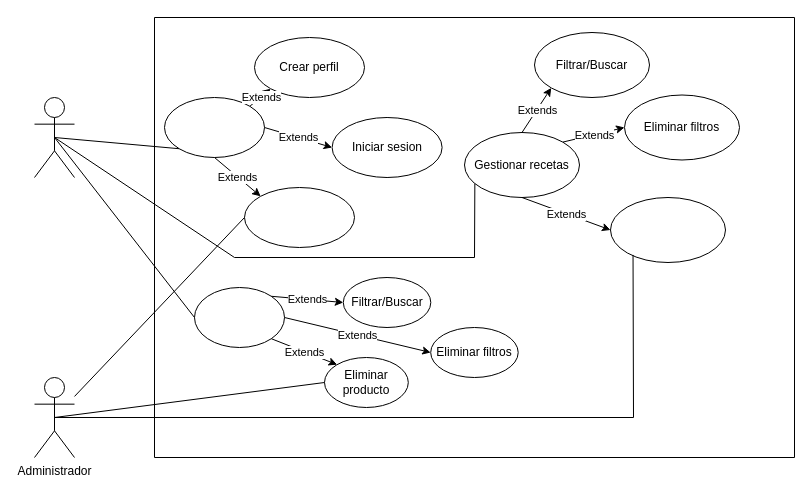
This 812x496 diagram has some shape labels left out. The box of each missing label's shape, as (x1, y1, x2, y2) in pixels:
Eliminar receta: (610, 196, 726, 262)
Eliminar usuario: (244, 186, 354, 248)
Gestionar productos: (194, 286, 284, 348)
Gestionar usuarios: (164, 96, 264, 158)
Usuario: (34, 96, 74, 178)
